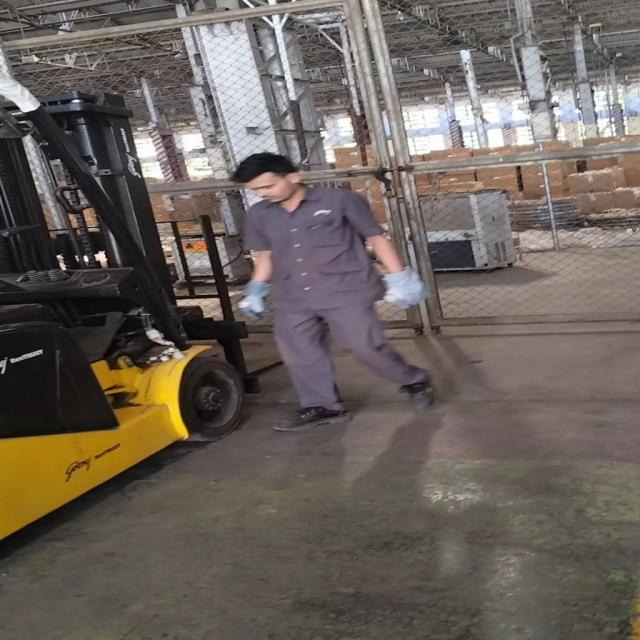Gloves-Detection: (378, 270, 430, 316), (236, 278, 276, 332)
